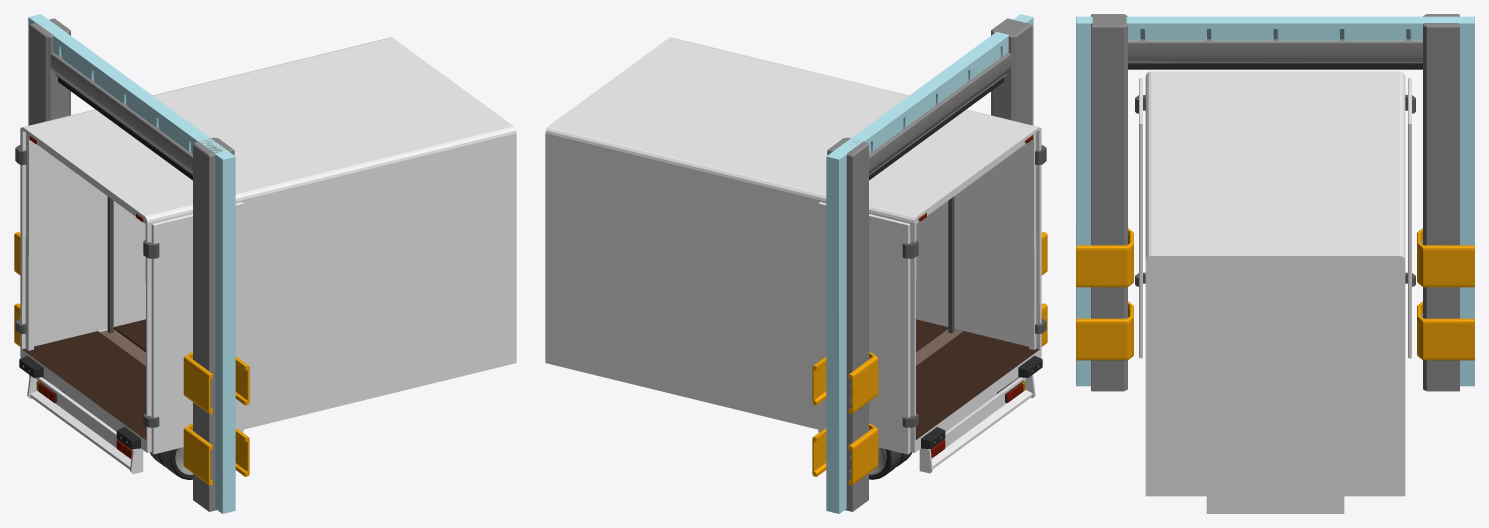
Rendered from Delivery_Truck.glb.
3 renders of one model, left to right at view 1: azimuth 30°, elevation 25°; view 2: azimuth 150°, elevation 25°; view 3: azimuth 270°, elevation 25°, orthographic. The views are drawn at different scales.
Parts seen in each view (by area): view 1: Delivery_Truck, Doorframe_Delivery; view 2: Delivery_Truck, Doorframe_Delivery; view 3: Delivery_Truck, Doorframe_Delivery.
Part boxes in pixels (x1,y1,x2,y2): Delivery_Truck: (15, 37, 516, 479); Doorframe_Delivery: (14, 14, 249, 513); Delivery_Truck: (545, 37, 1046, 479); Doorframe_Delivery: (812, 14, 1047, 513); Delivery_Truck: (1135, 71, 1415, 513); Doorframe_Delivery: (1076, 14, 1474, 391).
Size of what is drawn, in the model's own units: 4.49 by 4.04 by 4.
1 material, 1 textured.
